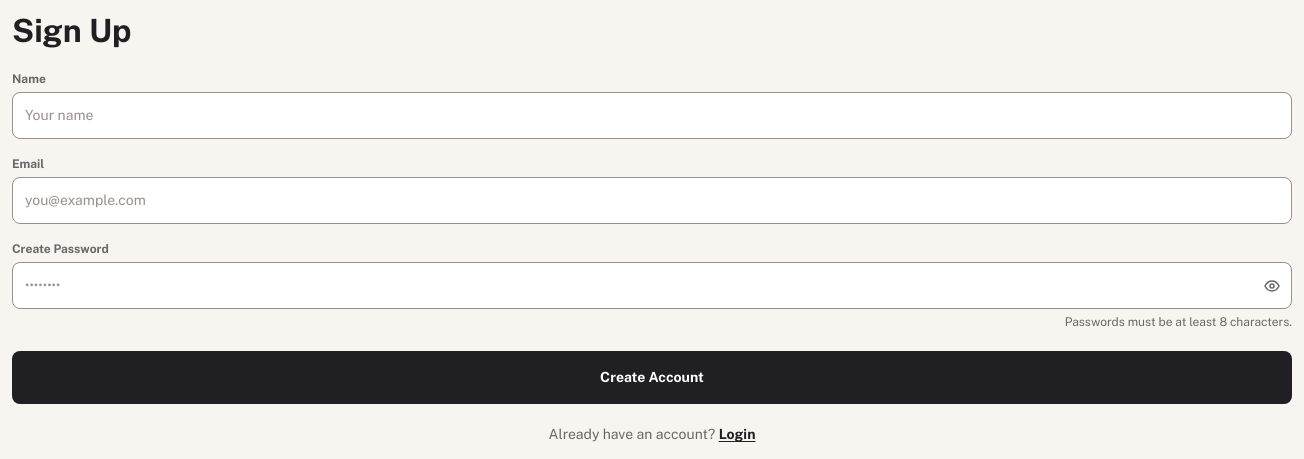
SignUpForm › validation › shows error for password shorter than 8 characters
Type "Jane Doe" into the field labelled "Name" at {"x": 652, "y": 116}, box top-left (12, 92), bottom-right (1292, 139)
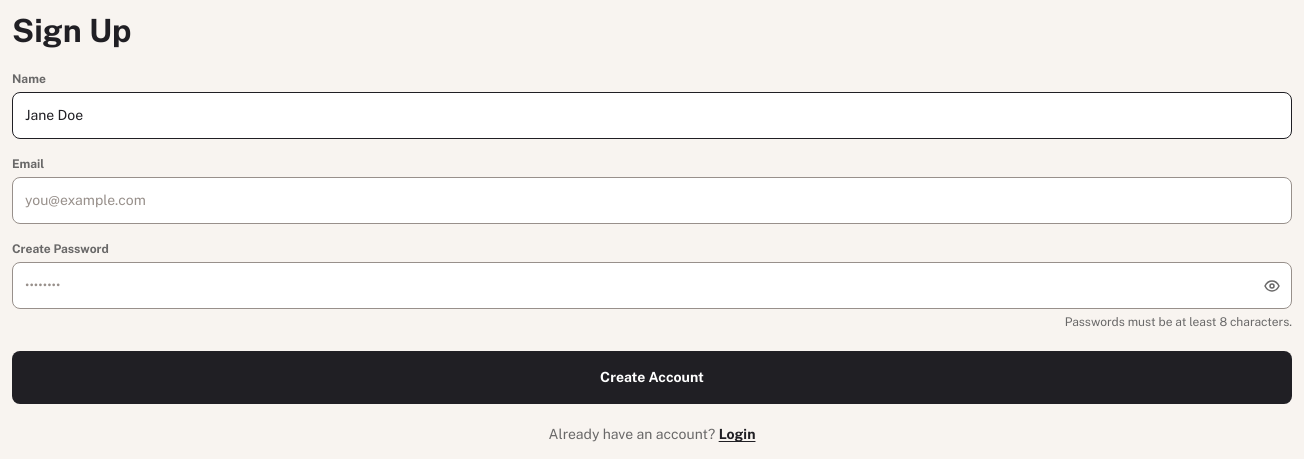
Type "jane@example.com" into the field labelled "Email" at {"x": 652, "y": 201}, box top-left (12, 177), bottom-right (1292, 224)
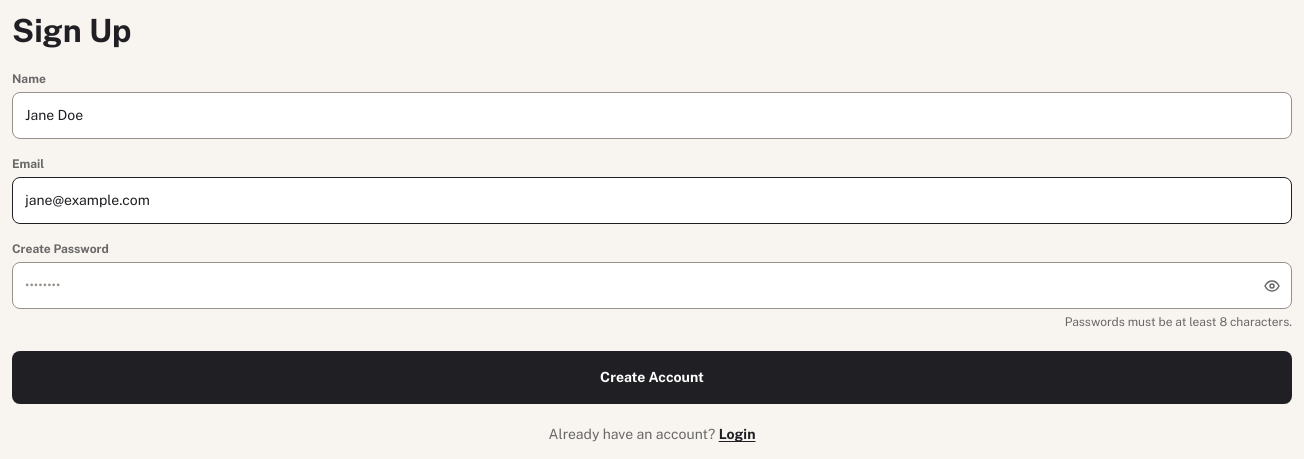
Type "short" into the password field labelled "Create Password" at {"x": 652, "y": 286}, box top-left (12, 262), bottom-right (1292, 309)
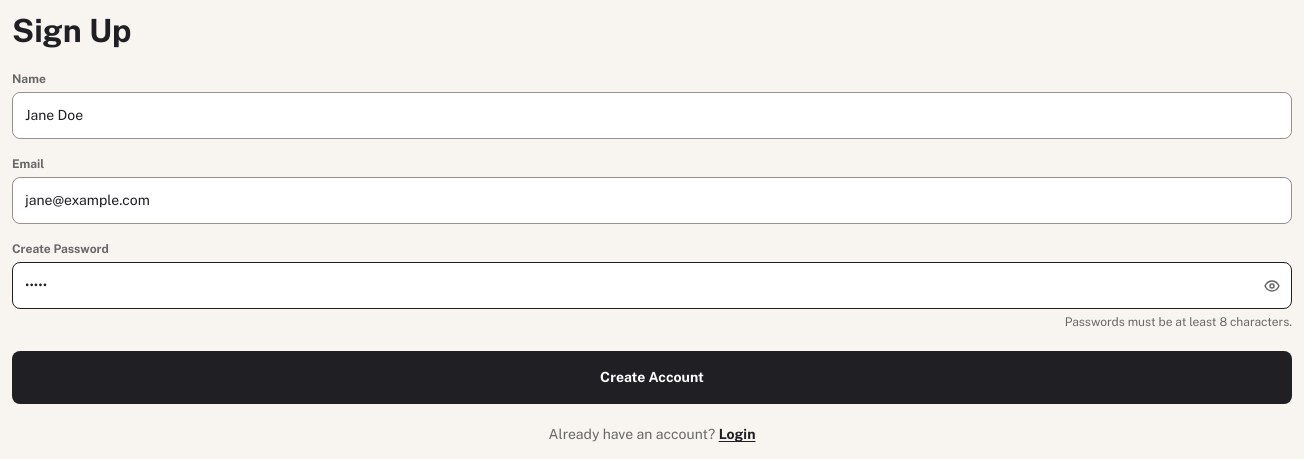
Click the button "Create Account" at {"x": 652, "y": 378}, box top-left (12, 351), bottom-right (1292, 404)
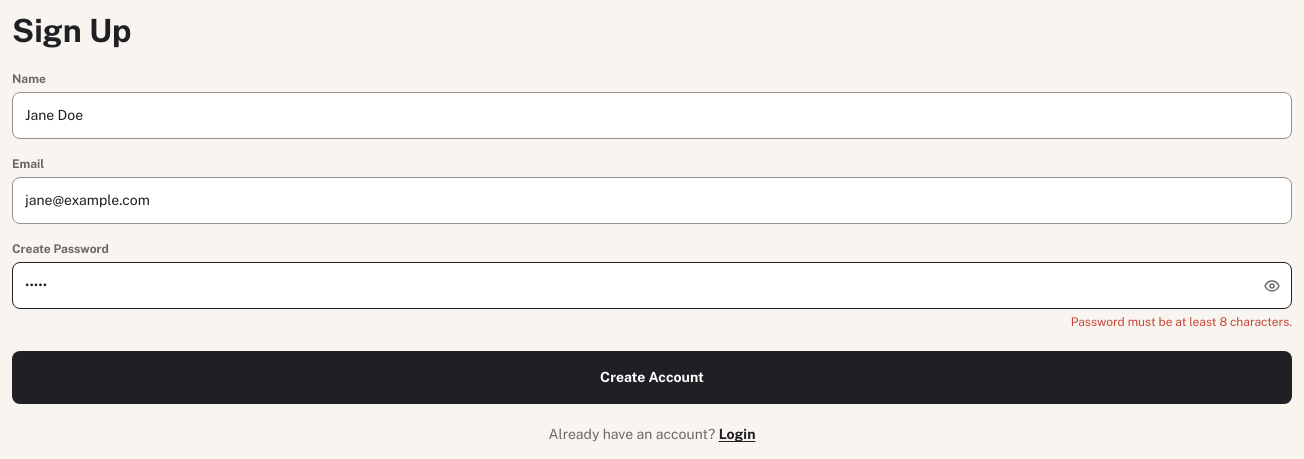
expect the text "Password must be at least 8 characters." is shown: met, box top-left (1071, 315), bottom-right (1292, 329)
